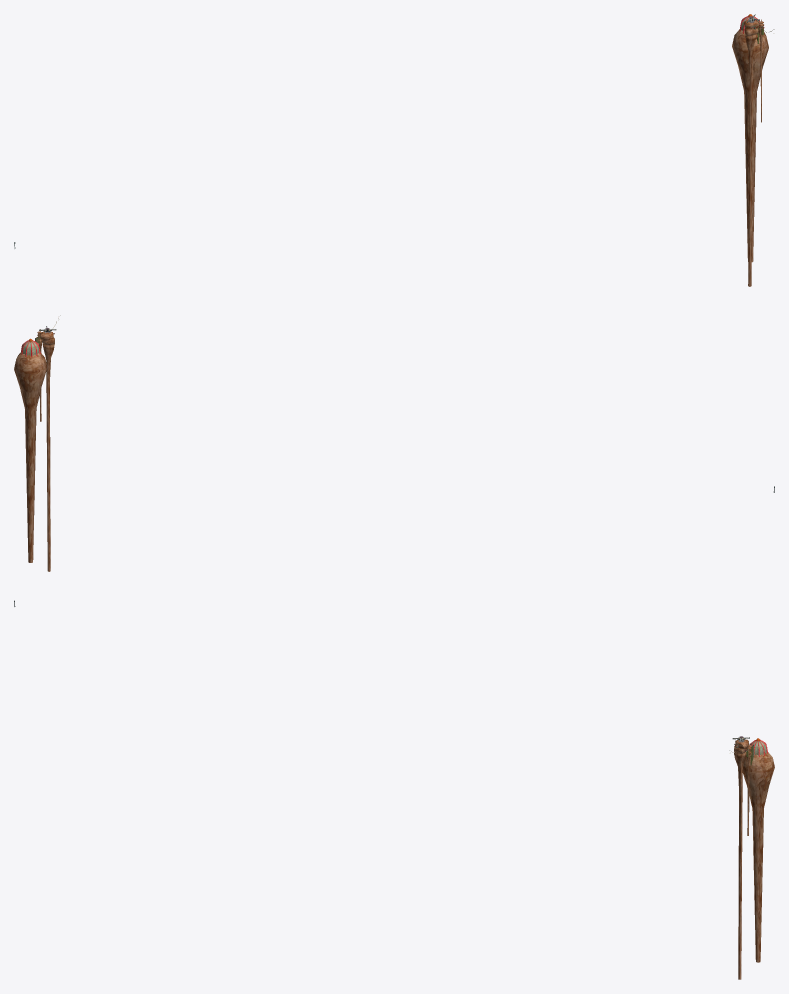
File: Bullet Station 7.fbx
The picture shows the model from 3 angles, top to bottom: view 1: azimuth 30°, elevation 25°; view 2: azimuth 150°, elevation 25°; view 3: azimuth 330°, elevation 25°; orthographic projection. The views are drawn at different scales.
Visible parts, largest first — view 1: STG08_ON_07; view 2: STG08_ON_07; view 3: STG08_ON_07.
Boxes of the visible parts, <box> form: STG08_ON_07: <box>14,14,774,286</box>; STG08_ON_07: <box>14,315,774,571</box>; STG08_ON_07: <box>14,600,774,979</box>.
Bounding box in the file's own units: 1.03e+07 × 3311296 × 1182194.
